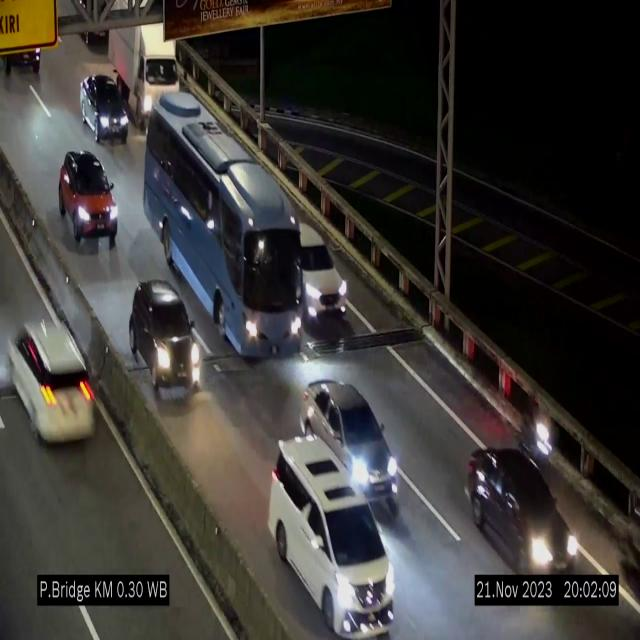Bus: (142, 82, 302, 356)
Car: (268, 436, 394, 639), (8, 310, 106, 449), (299, 380, 401, 512), (468, 451, 573, 578), (132, 284, 196, 398), (54, 154, 118, 242), (291, 228, 346, 324), (77, 72, 131, 148)
Motorcycle: (533, 409, 555, 467)
Truck: (101, 0, 189, 122)
